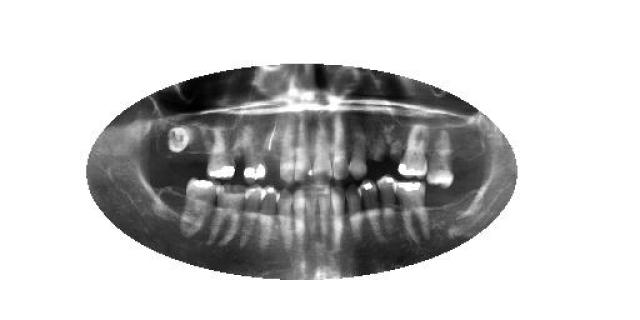Cavity: (208, 182, 248, 248)
Fillings: (179, 176, 219, 238), (392, 181, 430, 245), (358, 178, 384, 244), (398, 122, 428, 178), (206, 130, 235, 179), (259, 186, 280, 252), (242, 134, 268, 182), (376, 175, 396, 236)
